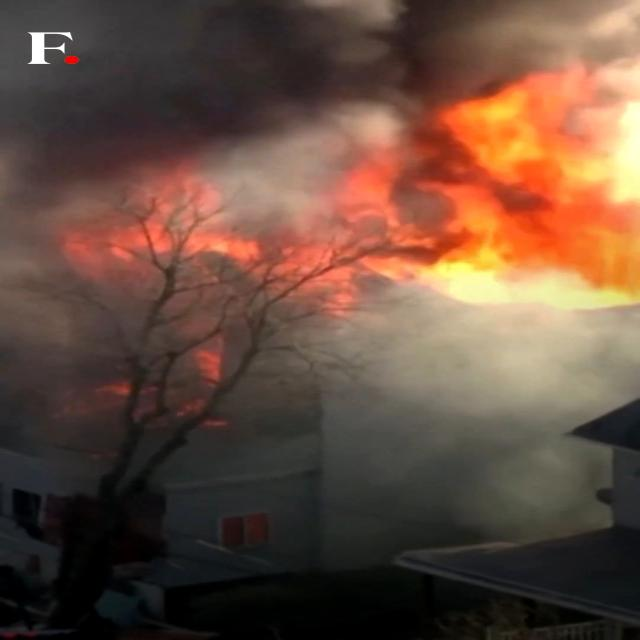helmet: (347, 76, 640, 302)
no_helmet: (340, 296, 616, 526), (81, 0, 332, 237), (80, 0, 639, 84)
